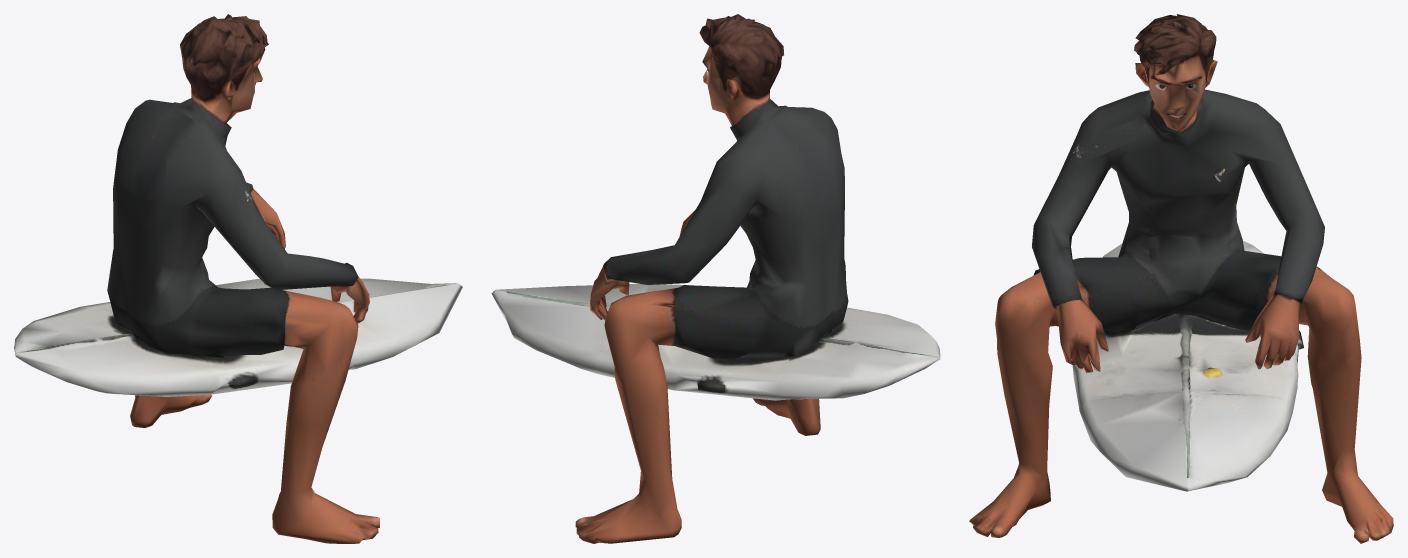
Rendered from sitter.glb.
3 views of the same model, side by side, from view 1: azimuth 30°, elevation 25°; view 2: azimuth 150°, elevation 25°; view 3: azimuth 270°, elevation 25° (orthographic). The views are drawn at different scales.
Visible parts, largest first — view 1: sitter; view 2: sitter; view 3: sitter.
Boxes of the visible parts, x1,y1,x2,y2 form: sitter: [14, 14, 462, 543]; sitter: [491, 14, 940, 543]; sitter: [969, 14, 1393, 543].
Bounding box in the file's own units: 0.9999 × 0.9915 × 0.7786.
1 material, 1 textured.
